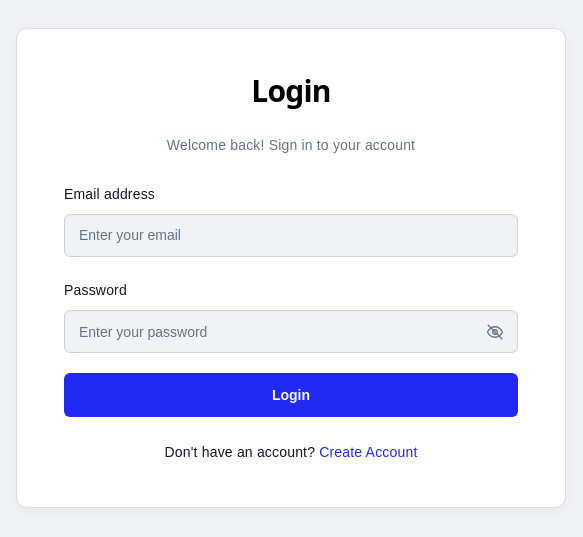
Test: Login component › shows an error when the email format is invalid
This screenshot has width=583, height=537.
Type "abc.com" into the field labelled "Email address" at (291, 236), box [64, 214, 518, 257]
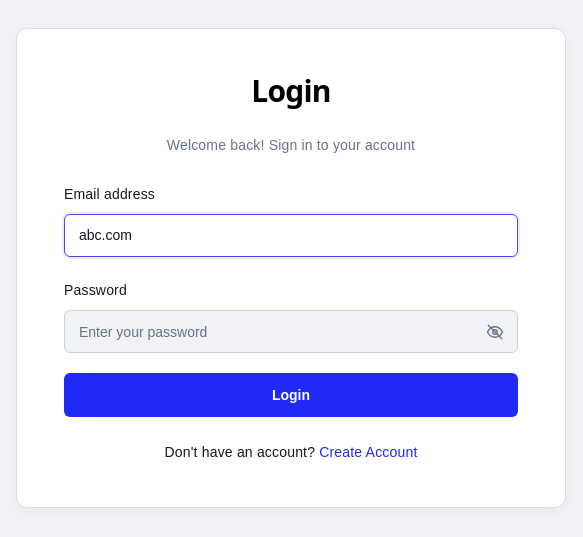
Type "Password123!" into the password field labelled "Password" at (291, 332), box [64, 310, 518, 353]
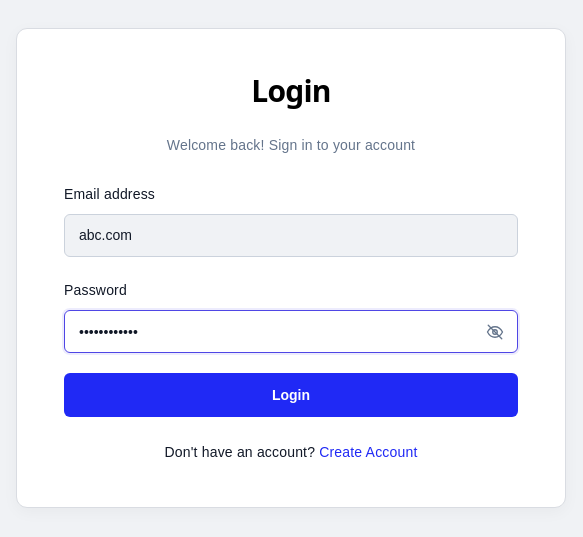
Click the button "Login" at (291, 395), box [64, 373, 518, 417]
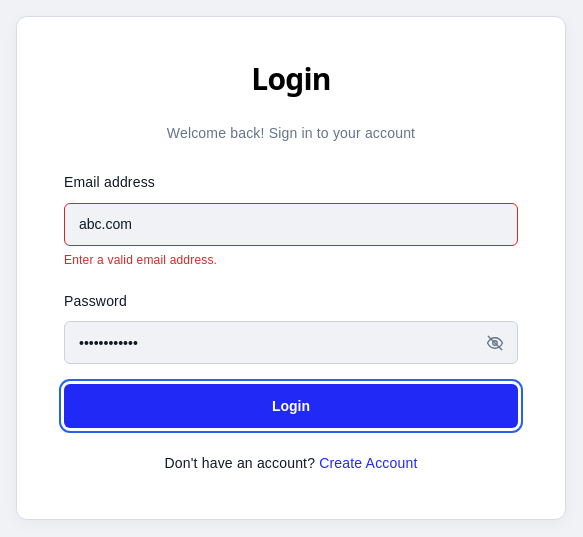
Check: the text "Enter a valid email address." is shown, box [64, 252, 217, 266]
